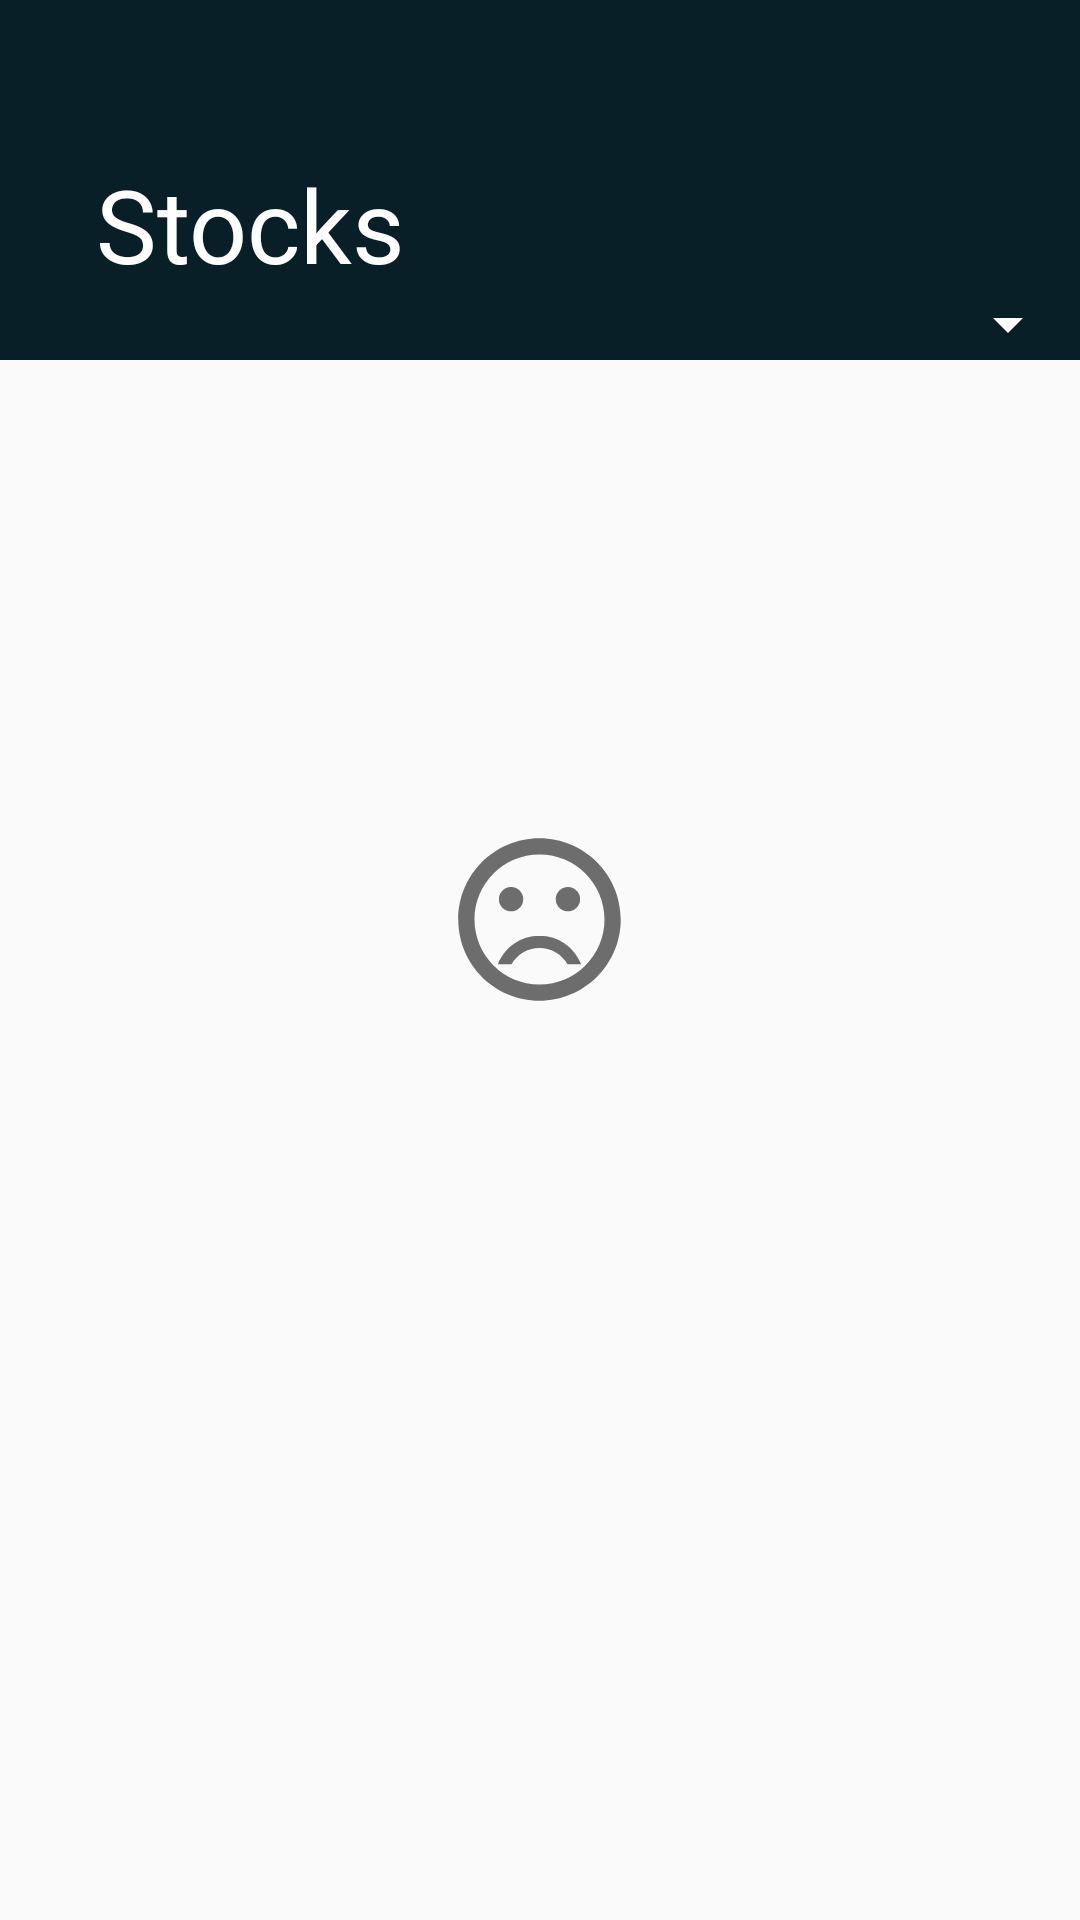

Named icons in this screenshot (1080*1920) and their centers, point (x, y):
sentiment: point (539, 919)
